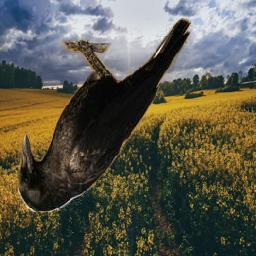Crow: (19, 18, 192, 212)
